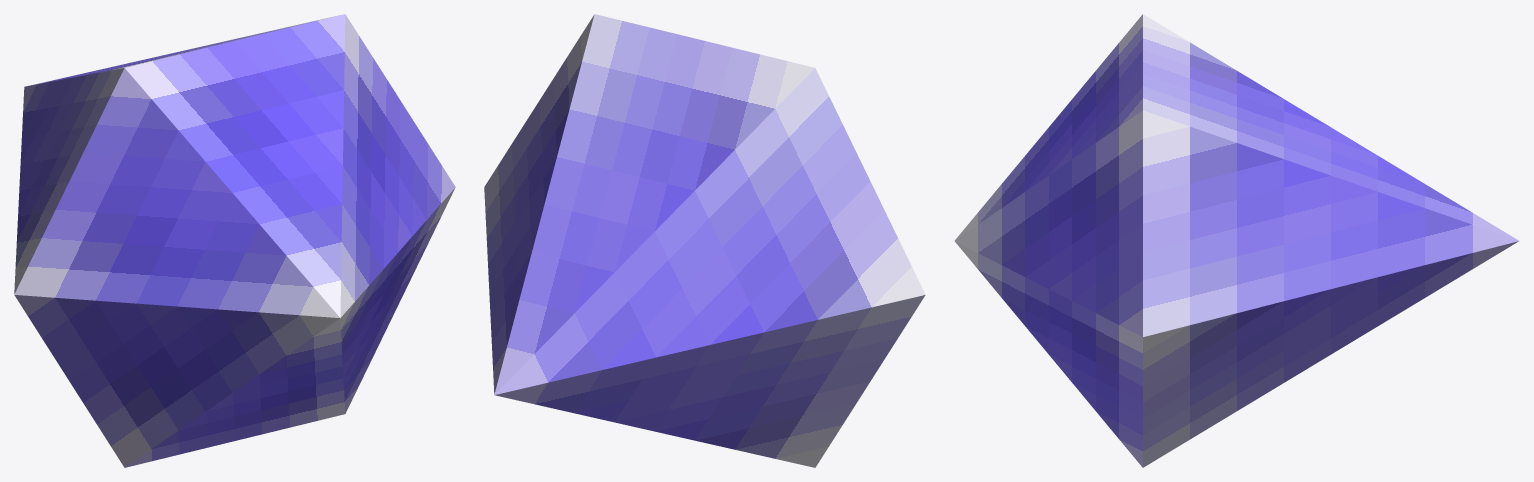
The model's file is Jewel01.glb.
3 renders of one model, left to right at view 1: azimuth 30°, elevation 25°; view 2: azimuth 150°, elevation 25°; view 3: azimuth 270°, elevation 25°, orthographic. The views are drawn at different scales.
Parts seen in each view (by area): view 1: model_Jewel01; view 2: model_Jewel01; view 3: model_Jewel01.
Boxes of the visible parts, x1=… form: model_Jewel01: x1=14, y1=14, x2=455, y2=467; model_Jewel01: x1=484, y1=14, x2=925, y2=467; model_Jewel01: x1=954, y1=14, x2=1518, y2=467.
Bounding box in the file's own units: 0.2013 × 0.1743 × 0.2496.
1 material, 1 textured.
